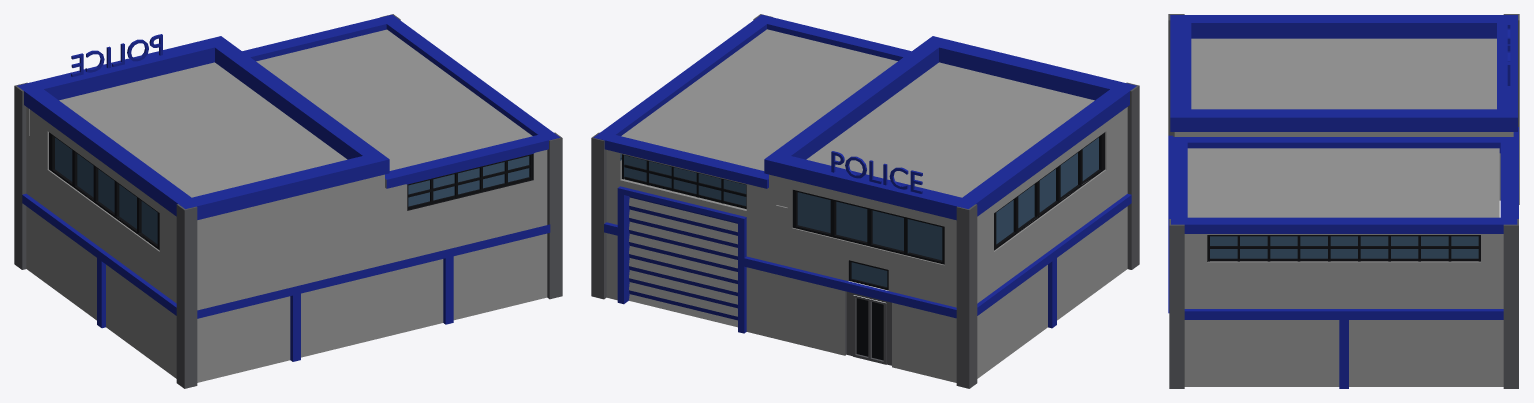
Rendered from large_building07.obj.
The picture shows the model from 3 angles, left to right: view 1: azimuth 30°, elevation 25°; view 2: azimuth 150°, elevation 25°; view 3: azimuth 270°, elevation 25°; orthographic projection. The views are drawn at different scales.
Parts seen in each view (by area): view 1: large_building07_Plane.027_Plane.027_Material.006; view 2: large_building07_Plane.027_Plane.027_Material.006; view 3: large_building07_Plane.027_Plane.027_Material.006.
Part boxes in pixels (x1,y1,x2,y2): large_building07_Plane.027_Plane.027_Material.006: [14, 14, 562, 388]; large_building07_Plane.027_Plane.027_Material.006: [591, 14, 1139, 388]; large_building07_Plane.027_Plane.027_Material.006: [1168, 14, 1519, 388].
Size of the model in its own units: 1.99 by 1 by 1.55.
